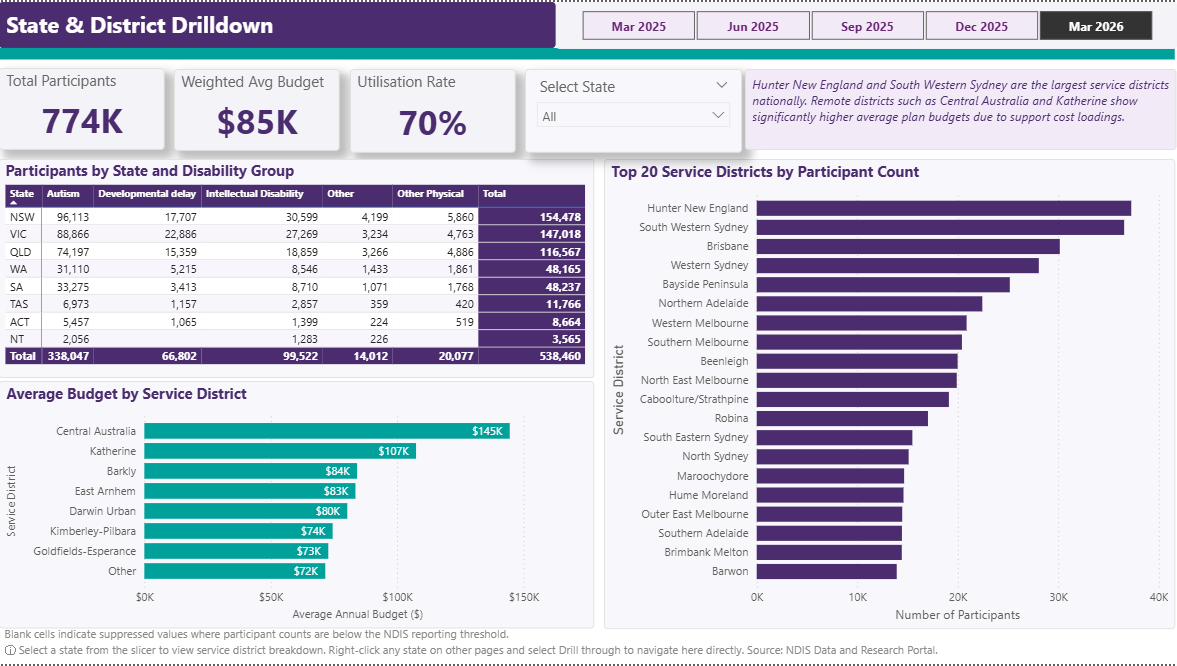

Layout of this report page (visuals, bound fields, positions):
{"tool":"powerbi","page":{"name":"State & District Drilldown","canvas":[1280,720],"ordinal":5},"visuals":[{"type":"textbox","box":[0,0,605.2,50],"z":0},{"type":"shape","box":[0,50,1278.1,12.5],"z":1000},{"type":"slicer","fields":{"Values":["DimDate.QuarterLabel"]},"box":[604.9,0,675.3,50.6],"z":2000},{"type":"card","title":"Total Participants","fields":{"Values":["Measures (2).P6 Total Participants"]},"box":[0,71.6,180.2,88.9],"z":3000},{"type":"card","title":"Weighted Avg Budget","fields":{"Values":["Measures (2).P6 Weighted Avg Budget"]},"box":[190.1,72.8,180.2,88.9],"z":4000},{"type":"card","title":"Utilisation Rate","fields":{"Values":["Measures (2).P6 Utilisation Rate"]},"box":[381.5,72.8,180.2,91.4],"z":5000},{"type":"pivotTable","title":"Participants by State and Disability Group","fields":{"Columns":["FactParticipantBudget.DisabilityGroup"],"Values":["Measures (2).Matrix Participants"],"Rows":["DimState.StateShortName"]},"box":[0,170.4,646.9,238.3],"z":6000},{"type":"textbox","box":[0,677.9,1279,41.8],"z":7000},{"type":"clusteredBarChart","title":"Top 20 Service Districts by Participant Count","fields":{"Category":["FactParticipantBudget.ServiceDistrict"],"Y":["Measures (2).District Participants"]},"box":[658,170.4,621,511.1],"z":8000},{"type":"slicer","fields":{"Values":["DimState.StateName"]},"box":[571.6,72.8,235.8,91.4],"z":9000},{"type":"clusteredBarChart","title":"Average Budget by Service District","fields":{"Category":["FactParticipantBudget.ServiceDistrict"],"Y":["Measures (2).District Weighted Avg Budget"]},"box":[0,412.3,646.9,269.1],"z":10000},{"type":"textbox","box":[811.1,72.8,469.1,87.7],"z":10001}]}

Visuals, with their boxes in screenshot pixels (x1, y1, x2, y2), scaled from the page's 1280x720 canvas onto the 1177x666 screenshot:
textbox: region(0, 0, 557, 46)
shape: region(0, 46, 1175, 58)
slicer - DimDate.QuarterLabel: region(556, 0, 1176, 47)
"Total Participants" card: region(0, 66, 166, 148)
"Weighted Avg Budget" card: region(175, 67, 341, 150)
"Utilisation Rate" card: region(351, 67, 517, 152)
"Participants by State and Disability Group" pivotTable: region(0, 158, 595, 378)
textbox: region(0, 627, 1176, 665)
"Top 20 Service Districts by Participant Count" clusteredBarChart: region(605, 158, 1176, 630)
slicer - DimState.StateName: region(526, 67, 742, 152)
"Average Budget by Service District" clusteredBarChart: region(0, 381, 595, 630)
textbox: region(746, 67, 1176, 148)
